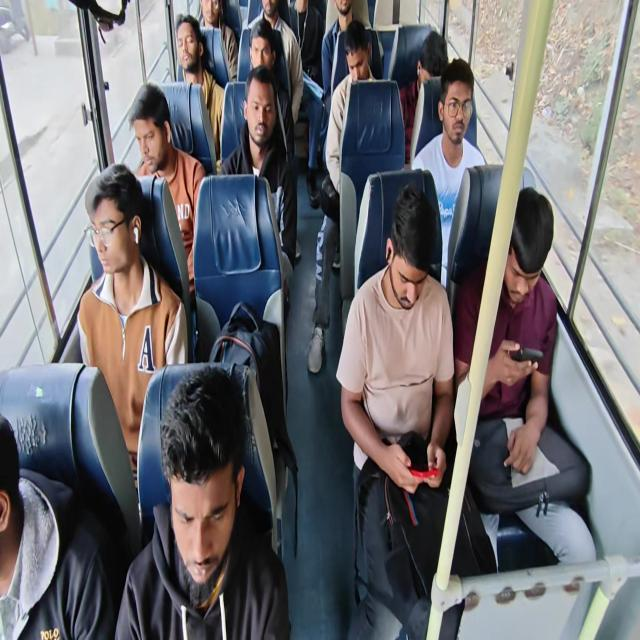person: (165, 382, 231, 596), (0, 400, 57, 595), (88, 163, 138, 283), (383, 192, 425, 310), (501, 194, 546, 301), (136, 83, 171, 169), (341, 21, 380, 94), (244, 81, 274, 144), (442, 84, 472, 146), (175, 25, 204, 81), (419, 39, 446, 83), (251, 26, 269, 68), (252, 0, 282, 24), (199, 0, 223, 23), (336, 0, 356, 27)
